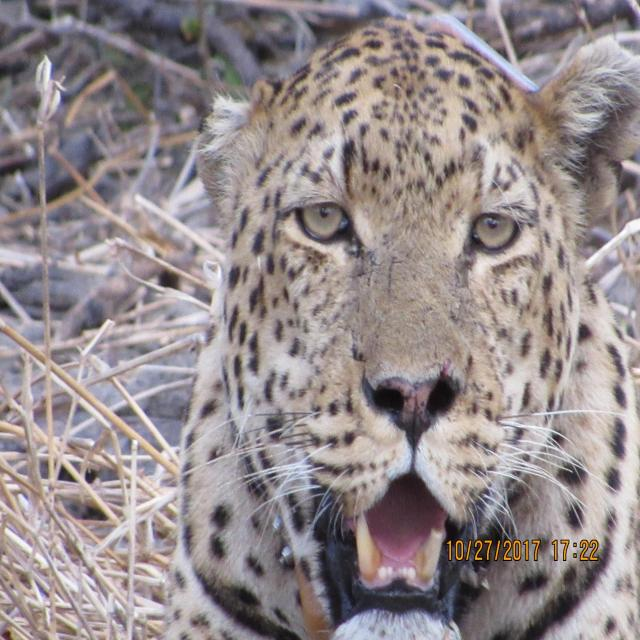Leopard: (91, 42, 640, 639)
